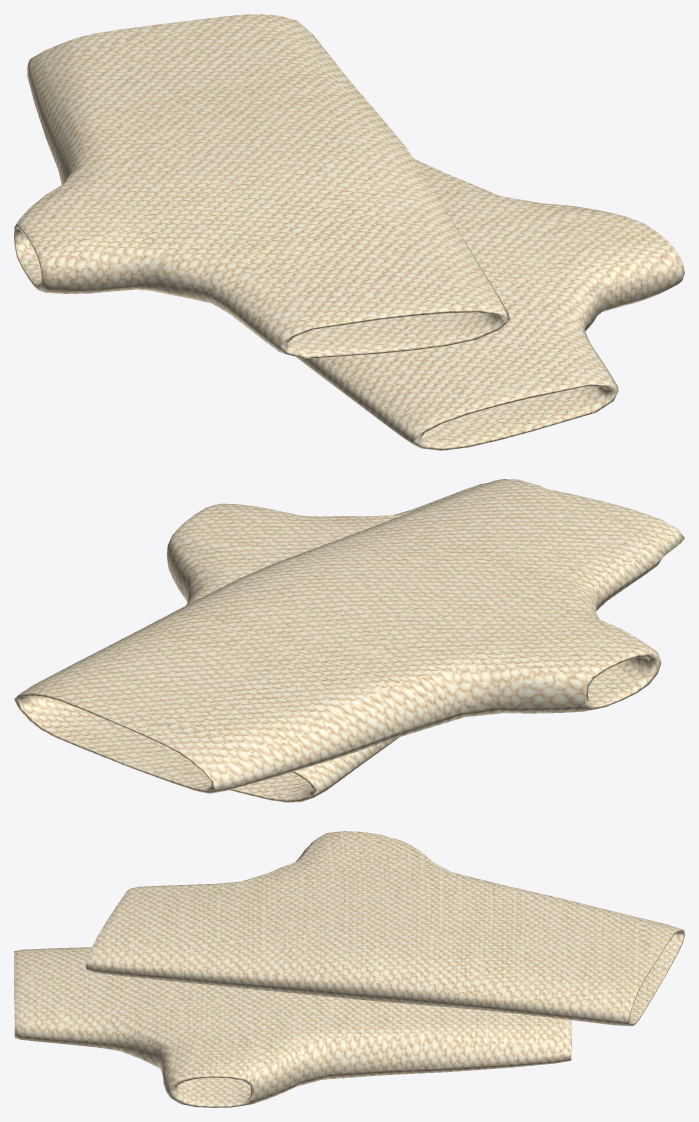
The model's file is Eden_wristguard.fbx.
3 views of the same model, one above another, from view 1: azimuth 30°, elevation 25°; view 2: azimuth 150°, elevation 25°; view 3: azimuth 270°, elevation 25° (orthographic). The views are drawn at different scales.
Parts seen in each view (by area): view 1: Eden_wristguard; view 2: Eden_wristguard; view 3: Eden_wristguard.
Part boxes in pixels (x1,y1,x2,y2): Eden_wristguard: [14, 14, 684, 450]; Eden_wristguard: [14, 479, 684, 802]; Eden_wristguard: [14, 831, 684, 1107].
Bounding box in the file's own units: 0.00436 × 0.000857 × 0.00599.
1 material, 1 textured.
